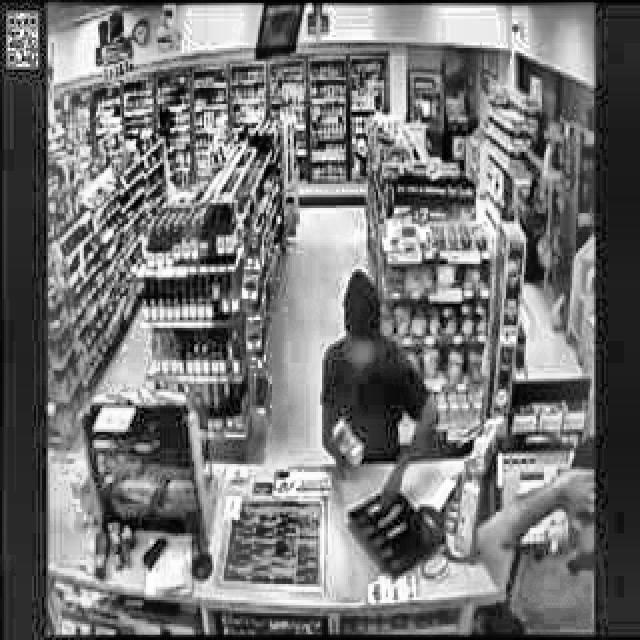robbery: (318, 270, 441, 516), (471, 435, 594, 634)
